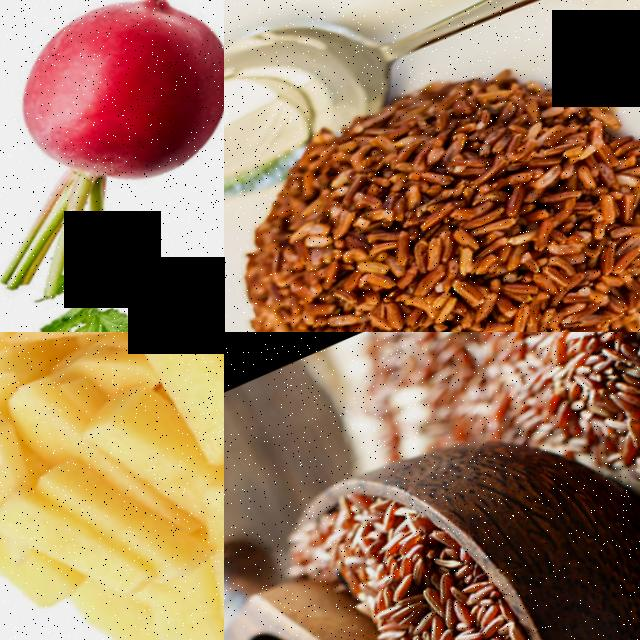potato: (0, 447, 154, 630), (117, 332, 224, 476), (0, 332, 174, 377), (0, 363, 42, 508)
radishes: (0, 0, 224, 242)
red rice: (224, 16, 640, 332), (467, 332, 640, 464), (327, 512, 494, 640)
